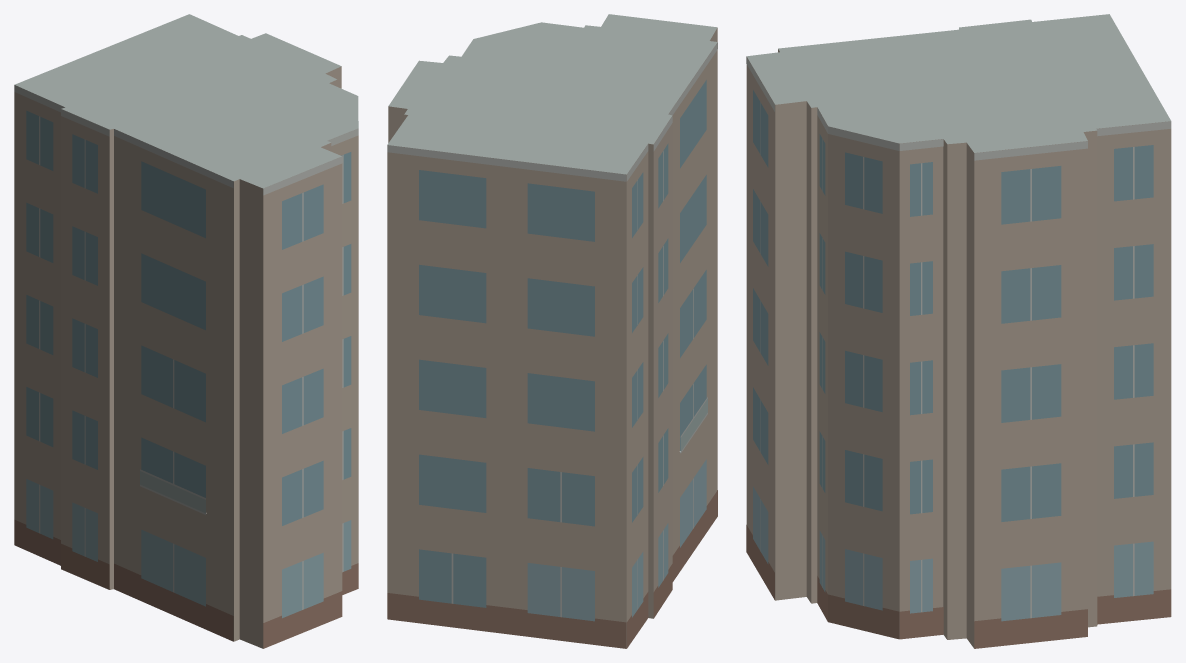
The model's file is survey-upis-32721077.glb.
The picture shows the model from 3 angles, left to right: view 1: azimuth 30°, elevation 25°; view 2: azimuth 150°, elevation 25°; view 3: azimuth 270°, elevation 25°; orthographic projection. The views are drawn at different scales.
Visible parts, largest first — view 1: survey-upis-32721077.tmp; view 2: survey-upis-32721077.tmp; view 3: survey-upis-32721077.tmp.
Boxes of the visible parts, box(x1,y1,x2,y2) form: survey-upis-32721077.tmp: box(14, 14, 358, 648); survey-upis-32721077.tmp: box(387, 14, 717, 648); survey-upis-32721077.tmp: box(746, 14, 1171, 648).
Size of the model in its own units: 9.57 by 15.9 by 12.36.
